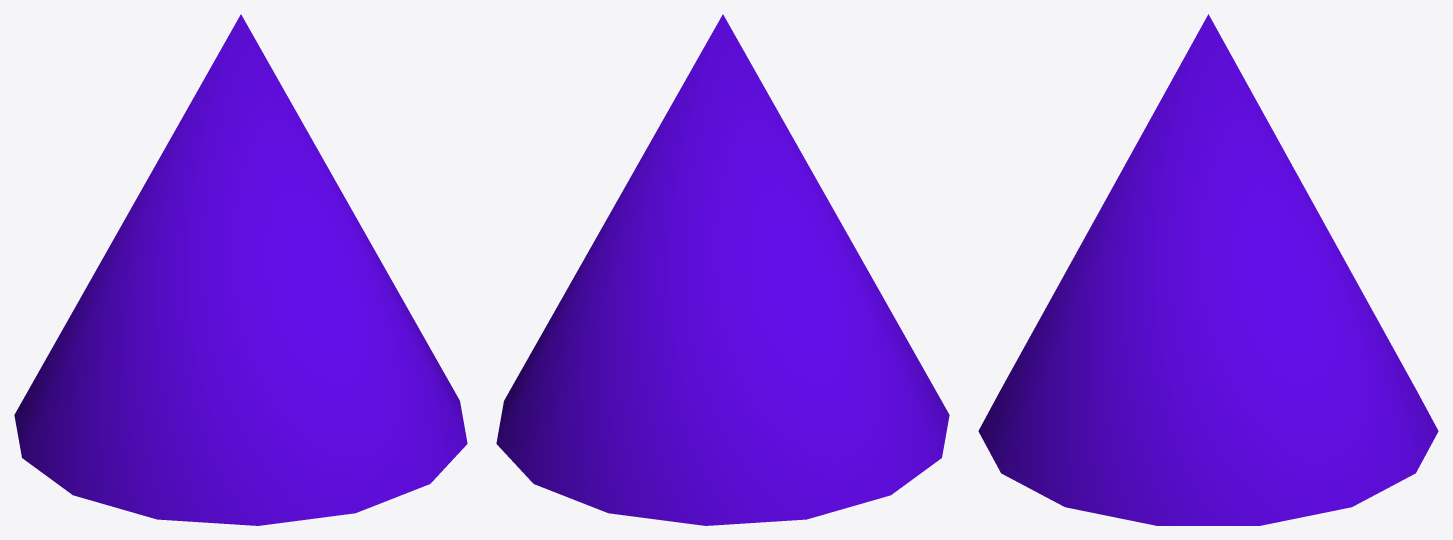
File: smalltoken.fbx
3 renders of one model, left to right at view 1: azimuth 30°, elevation 25°; view 2: azimuth 150°, elevation 25°; view 3: azimuth 270°, elevation 25°, orthographic.
Visible parts, largest first — view 1: Cone; view 2: Cone; view 3: Cone.
Part boxes in pixels (<box>): Cone: <box>14,14,467,525</box>; Cone: <box>496,14,949,525</box>; Cone: <box>978,14,1438,525</box>.
Bounding box in the file's own units: 195 × 200 × 200.
